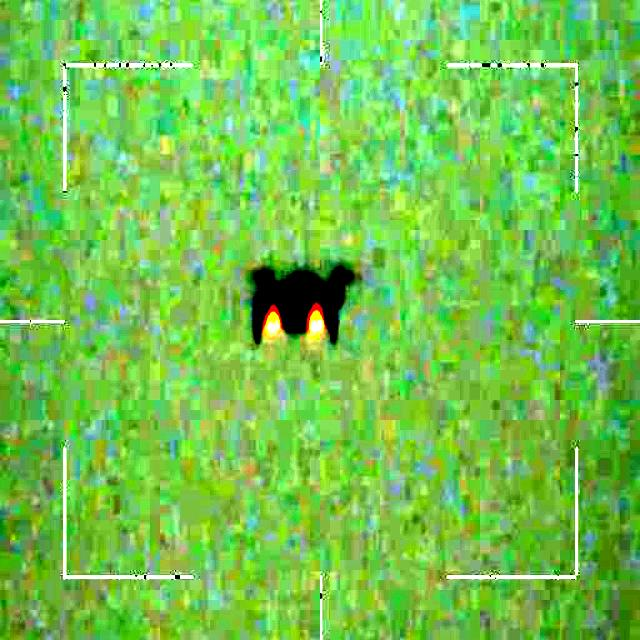bird: (249, 262, 352, 344)
